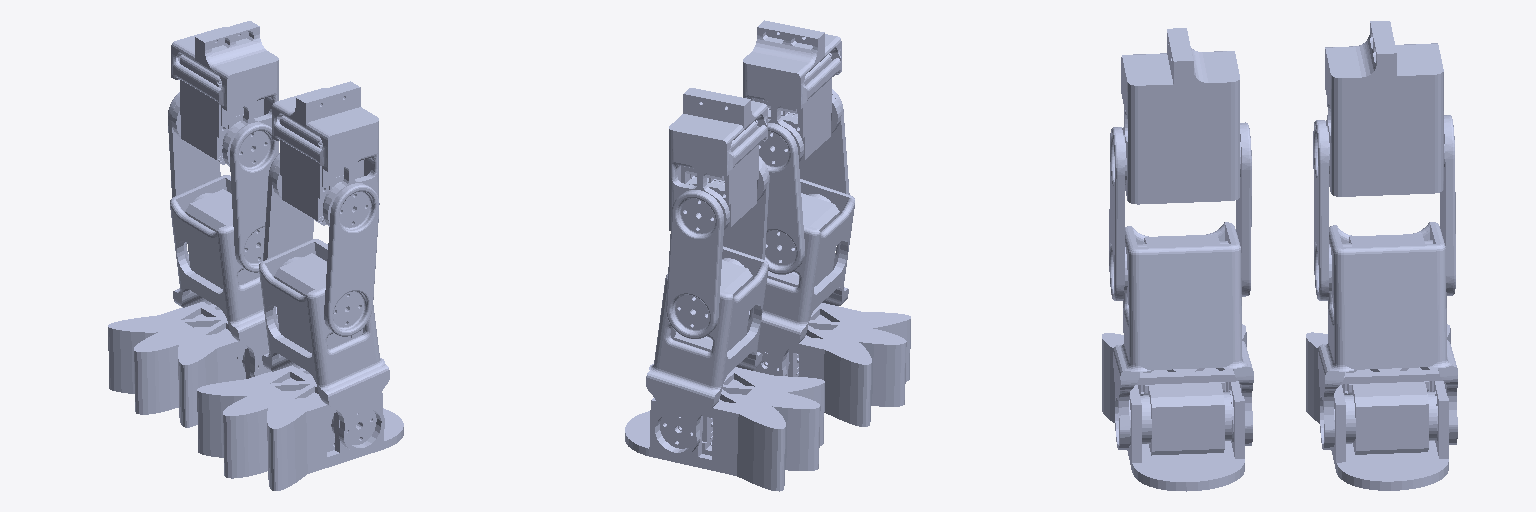
URDF robot description (urdf_assembly_of_parts_0425):
<?xml version="1.0" encoding="utf-8"?>
<!-- This URDF was automatically created by SolidWorks to URDF Exporter! Originally created by [author] ([email redacted]) 
     Commit Version: 1.6.0-1-g15f4949  Build Version: 1.6.7594.29634
     For more information, please see http://wiki.ros.org/sw_urdf_exporter -->
<robot
  name="urdf_assembly_of_parts_0425">
  <link
    name="base_link">
    <inertial>
      <origin
        xyz="-0.018251 -0.0065621 -0.00080622"
        rpy="0 0 0" />
      <mass
        value="0.47658" />
      <inertia
        ixx="0.00052182"
        ixy="-3.5568E-09"
        ixz="-2.0975E-05"
        iyy="0.00065386"
        iyz="-1.3851E-06"
        izz="0.00029182" />
    </inertial>
    <visual>
      <origin
        xyz="0 0 0"
        rpy="0 0 0" />
      <geometry>
        <mesh
          filename="package://urdf_assembly_of_parts_0425/meshes/base_link.STL" />
      </geometry>
      <material
        name="">
        <color
          rgba="0.79216 0.81961 0.93333 1" />
      </material>
    </visual>
    <collision>
      <origin
        xyz="0 0 0"
        rpy="0 0 0" />
      <geometry>
        <mesh
          filename="package://urdf_assembly_of_parts_0425/meshes/base_link.STL" />
      </geometry>
    </collision>
  </link>
  <link
    name="left_hip_link">
    <inertial>
      <origin
        xyz="-0.0089667 0.012942 -0.0080466"
        rpy="0 0 0" />
      <mass
        value="0.05907" />
      <inertia
        ixx="1.628E-05"
        ixy="-3.0432E-08"
        ixz="-5.9535E-09"
        iyy="1.1638E-05"
        iyz="-1.3373E-06"
        izz="1.98E-05" />
    </inertial>
    <visual>
      <origin
        xyz="0 0 0"
        rpy="0 0 0" />
      <geometry>
        <mesh
          filename="package://urdf_assembly_of_parts_0425/meshes/left_hip_link.STL" />
      </geometry>
      <material
        name="">
        <color
          rgba="0.79216 0.81961 0.93333 1" />
      </material>
    </visual>
    <collision>
      <origin
        xyz="0 0 0"
        rpy="0 0 0" />
      <geometry>
        <mesh
          filename="package://urdf_assembly_of_parts_0425/meshes/left_hip_link.STL" />
      </geometry>
    </collision>
  </link>
  <joint
    name="left_hip_joint"
    type="fixed">
    <origin
      xyz="-0.027418 0.031543 -0.090395"
      rpy="1.5708 0 -1.4835" />
    <parent
      link="base_link" />
    <child
      link="left_hip_link" />
    <axis
      xyz="0 0 0" />
  </joint>
  <link
    name="left_leg_link">
    <inertial>
      <origin
        xyz="-0.0084379 -0.024967 0.0012766"
        rpy="0 0 0" />
      <mass
        value="0.014898" />
      <inertia
        ixx="7.0768E-06"
        ixy="-3.6396E-23"
        ixz="-2.1705E-21"
        iyy="8.0093E-07"
        iyz="2.874E-07"
        izz="6.4071E-06" />
    </inertial>
    <visual>
      <origin
        xyz="0 0 0"
        rpy="0 0 0" />
      <geometry>
        <mesh
          filename="package://urdf_assembly_of_parts_0425/meshes/left_leg_link.STL" />
      </geometry>
      <material
        name="">
        <color
          rgba="0.79216 0.81961 0.93333 1" />
      </material>
    </visual>
    <collision>
      <origin
        xyz="0 0 0"
        rpy="0 0 0" />
      <geometry>
        <mesh
          filename="package://urdf_assembly_of_parts_0425/meshes/left_leg_link.STL" />
      </geometry>
    </collision>
  </link>
  <joint
    name="left_leg_joint"
    type="revolute">
    <origin
      xyz="0 -0.0037463 -0.005623"
      rpy="0.10981 0 0" />
    <parent
      link="left_hip_link" />
    <child
      link="left_leg_link" />
    <axis
      xyz="1 0 0" />
    <limit
      lower="0"
      upper="0"
      effort="0"
      velocity="0" />
  </joint>
  <link
    name="left_knee_link">
    <inertial>
      <origin
        xyz="0.0091779 0.017842 -0.00094445"
        rpy="0 0 0" />
      <mass
        value="0.065487" />
      <inertia
        ixx="2.618E-05"
        ixy="2.338E-07"
        ixz="1.2867E-08"
        iyy="1.8622E-05"
        iyz="-6.6276E-07"
        izz="3.284E-05" />
    </inertial>
    <visual>
      <origin
        xyz="0 0 0"
        rpy="0 0 0" />
      <geometry>
        <mesh
          filename="package://urdf_assembly_of_parts_0425/meshes/left_knee_link.STL" />
      </geometry>
      <material
        name="">
        <color
          rgba="0.79216 0.81961 0.93333 1" />
      </material>
    </visual>
    <collision>
      <origin
        xyz="0 0 0"
        rpy="0 0 0" />
      <geometry>
        <mesh
          filename="package://urdf_assembly_of_parts_0425/meshes/left_knee_link.STL" />
      </geometry>
    </collision>
  </link>
  <joint
    name="left_knee_joint"
    type="revolute">
    <origin
      xyz="0 -0.049935 0.0025487"
      rpy="-0.020592 0 3.1416" />
    <parent
      link="left_leg_link" />
    <child
      link="left_knee_link" />
    <axis
      xyz="1 0 0" />
    <limit
      lower="0"
      upper="0"
      effort="0"
      velocity="0" />
  </joint>
  <link
    name="left_foot_link">
    <inertial>
      <origin
        xyz="0.022002 -0.0016856 0.0096793"
        rpy="0 0 0" />
      <mass
        value="0.084599" />
      <inertia
        ixx="2.2412E-05"
        ixy="-4.0774E-06"
        ixz="-7.16E-07"
        iyy="4.4653E-05"
        iyz="-5.0265E-08"
        izz="3.6766E-05" />
    </inertial>
    <visual>
      <origin
        xyz="0 0 0"
        rpy="0 0 0" />
      <geometry>
        <mesh
          filename="package://urdf_assembly_of_parts_0425/meshes/left_foot_link.STL" />
      </geometry>
      <material
        name="">
        <color
          rgba="0.79216 0.81961 0.93333 1" />
      </material>
    </visual>
    <collision>
      <origin
        xyz="0 0 0"
        rpy="0 0 0" />
      <geometry>
        <mesh
          filename="package://urdf_assembly_of_parts_0425/meshes/left_foot_link.STL" />
      </geometry>
    </collision>
  </link>
  <joint
    name="left_foot_joint"
    type="revolute">
    <origin
      xyz="0 0.063 0"
      rpy="-1.5708 -1.4674 -1.5708" />
    <parent
      link="left_knee_link" />
    <child
      link="left_foot_link" />
    <axis
      xyz="0 0 1" />
    <limit
      lower="0"
      upper="0"
      effort="0"
      velocity="0" />
  </joint>
  <link
    name="right_hip_link">
    <inertial>
      <origin
        xyz="-0.011016 -0.015273 0.01311"
        rpy="0 0 0" />
      <mass
        value="0.059048" />
      <inertia
        ixx="1.6256E-05"
        ixy="-2.245E-08"
        ixz="-1.4347E-09"
        iyy="1.163E-05"
        iyz="-1.332E-06"
        izz="1.9782E-05" />
    </inertial>
    <visual>
      <origin
        xyz="0 0 0"
        rpy="0 0 0" />
      <geometry>
        <mesh
          filename="package://urdf_assembly_of_parts_0425/meshes/right_hip_link.STL" />
      </geometry>
      <material
        name="">
        <color
          rgba="0.79216 0.81961 0.93333 1" />
      </material>
    </visual>
    <collision>
      <origin
        xyz="0 0 0"
        rpy="0 0 0" />
      <geometry>
        <mesh
          filename="package://urdf_assembly_of_parts_0425/meshes/right_hip_link.STL" />
      </geometry>
    </collision>
  </link>
  <joint
    name="right_hip_joint"
    type="fixed">
    <origin
      xyz="0.00089828 -0.04934 -0.062193"
      rpy="1.5708 0 -1.4835" />
    <parent
      link="base_link" />
    <child
      link="right_hip_link" />
    <axis
      xyz="0 0 0" />
  </joint>
  <link
    name="right_leg_link">
    <inertial>
      <origin
        xyz="-0.010472 -0.024967 0.0012766"
        rpy="0 0 0" />
      <mass
        value="0.014898" />
      <inertia
        ixx="7.0768E-06"
        ixy="2.6304E-22"
        ixz="2.1176E-22"
        iyy="8.0093E-07"
        iyz="2.874E-07"
        izz="6.4071E-06" />
    </inertial>
    <visual>
      <origin
        xyz="0 0 0"
        rpy="0 0 0" />
      <geometry>
        <mesh
          filename="package://urdf_assembly_of_parts_0425/meshes/right_leg_link.STL" />
      </geometry>
      <material
        name="">
        <color
          rgba="0.79216 0.81961 0.93333 1" />
      </material>
    </visual>
    <collision>
      <origin
        xyz="0 0 0"
        rpy="0 0 0" />
      <geometry>
        <mesh
          filename="package://urdf_assembly_of_parts_0425/meshes/right_leg_link.STL" />
      </geometry>
    </collision>
  </link>
  <joint
    name="right_leg_joint"
    type="revolute">
    <origin
      xyz="0 -0.031948 0.015536"
      rpy="-0.021191 0 0" />
    <parent
      link="right_hip_link" />
    <child
      link="right_leg_link" />
    <axis
      xyz="1 0 0" />
    <limit
      lower="0"
      upper="0"
      effort="0"
      velocity="0" />
  </joint>
  <link
    name="right_knee_link">
    <inertial>
      <origin
        xyz="0.011211 0.017842 -0.00094445"
        rpy="0 0 0" />
      <mass
        value="0.065487" />
      <inertia
        ixx="2.618E-05"
        ixy="2.338E-07"
        ixz="1.2867E-08"
        iyy="1.8622E-05"
        iyz="-6.6276E-07"
        izz="3.284E-05" />
    </inertial>
    <visual>
      <origin
        xyz="0 0 0"
        rpy="0 0 0" />
      <geometry>
        <mesh
          filename="package://urdf_assembly_of_parts_0425/meshes/right_knee_link.STL" />
      </geometry>
      <material
        name="">
        <color
          rgba="0.79216 0.81961 0.93333 1" />
      </material>
    </visual>
    <collision>
      <origin
        xyz="0 0 0"
        rpy="0 0 0" />
      <geometry>
        <mesh
          filename="package://urdf_assembly_of_parts_0425/meshes/right_knee_link.STL" />
      </geometry>
    </collision>
  </link>
  <joint
    name="right_knee_joint"
    type="revolute">
    <origin
      xyz="0 -0.049935 0.0025487"
      rpy="-0.15478 0 -3.1416" />
    <parent
      link="right_leg_link" />
    <child
      link="right_knee_link" />
    <axis
      xyz="1 0 0" />
    <limit
      lower="0"
      upper="0"
      effort="0"
      velocity="0" />
  </joint>
  <link
    name="right_foot_link">
    <inertial>
      <origin
        xyz="0.022002 -0.0016856 0.012013"
        rpy="0 0 0" />
      <mass
        value="0.084599" />
      <inertia
        ixx="2.2412E-05"
        ixy="-4.0774E-06"
        ixz="-7.16E-07"
        iyy="4.4653E-05"
        iyz="-5.0266E-08"
        izz="3.6766E-05" />
    </inertial>
    <visual>
      <origin
        xyz="0 0 0"
        rpy="0 0 0" />
      <geometry>
        <mesh
          filename="package://urdf_assembly_of_parts_0425/meshes/right_foot_link.STL" />
      </geometry>
      <material
        name="">
        <color
          rgba="0.79216 0.81961 0.93333 1" />
      </material>
    </visual>
    <collision>
      <origin
        xyz="0 0 0"
        rpy="0 0 0" />
      <geometry>
        <mesh
          filename="package://urdf_assembly_of_parts_0425/meshes/right_foot_link.STL" />
      </geometry>
    </collision>
  </link>
  <joint
    name="right_foot_joint"
    type="revolute">
    <origin
      xyz="0 0.063 0"
      rpy="-1.5708 -1.4644 -1.5708" />
    <parent
      link="right_knee_link" />
    <child
      link="right_foot_link" />
    <axis
      xyz="0 0 1" />
    <limit
      lower="0"
      upper="0"
      effort="0"
      velocity="0" />
  </joint>
</robot>

--- Facts derived from the render (not from the file) ---
Views: 3 orthographic renders of the robot side by side, from view 1: azimuth 30°, elevation 25°; view 2: azimuth 150°, elevation 25°; view 3: azimuth 270°, elevation 25°.
Model urdf_assembly_of_parts_0425 with 9 links and 8 joints (6 revolute, 2 fixed), rooted at base_link, posed all joints at 0.
Visible links, largest first — view 1: right_foot_link, right_knee_link, left_foot_link, right_hip_link, left_hip_link, left_knee_link, right_leg_link, left_leg_link; view 2: left_foot_link, left_knee_link, right_foot_link, left_hip_link, right_knee_link, right_hip_link, left_leg_link, right_leg_link; view 3: right_knee_link, left_knee_link, left_hip_link, right_hip_link, left_foot_link, right_foot_link, left_leg_link, right_leg_link.
Boxes of the visible links, x1,y1,x2,y2 form: right_foot_link: [197, 365, 403, 490]; right_knee_link: [259, 239, 389, 452]; left_foot_link: [108, 302, 250, 427]; right_hip_link: [272, 81, 378, 226]; left_hip_link: [171, 21, 278, 166]; left_knee_link: [170, 175, 277, 377]; right_leg_link: [263, 153, 379, 336]; left_leg_link: [168, 92, 278, 272]; left_foot_link: [625, 367, 824, 491]; left_knee_link: [646, 246, 768, 456]; right_foot_link: [764, 303, 910, 426]; left_hip_link: [669, 88, 767, 231]; right_knee_link: [749, 179, 854, 375]; right_hip_link: [743, 20, 841, 163]; left_leg_link: [666, 156, 769, 338]; right_leg_link: [759, 89, 849, 274]; right_knee_link: [1113, 222, 1253, 449]; left_knee_link: [1318, 222, 1457, 449]; left_hip_link: [1325, 21, 1443, 196]; right_hip_link: [1121, 28, 1239, 204]; left_foot_link: [1306, 324, 1450, 490]; right_foot_link: [1102, 324, 1246, 491]; left_leg_link: [1313, 115, 1455, 300]; right_leg_link: [1109, 122, 1251, 300].
Bounding box of the posed robot: 0.0972 × 0.1416 × 0.1805 m (x, y, z).
Meshes: 9 distinct files referenced, 8 mesh visuals loaded (8 binary STL); not drawn: 1 (reference not matched to a file when rendering).